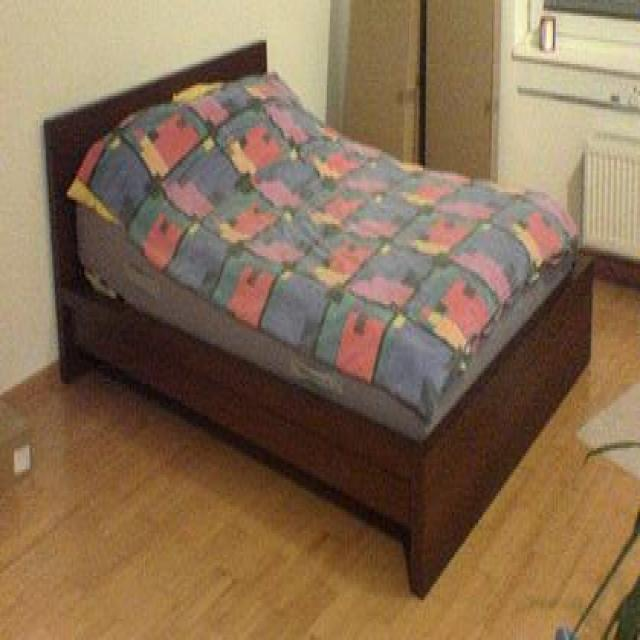bed: (42, 36, 596, 601)
